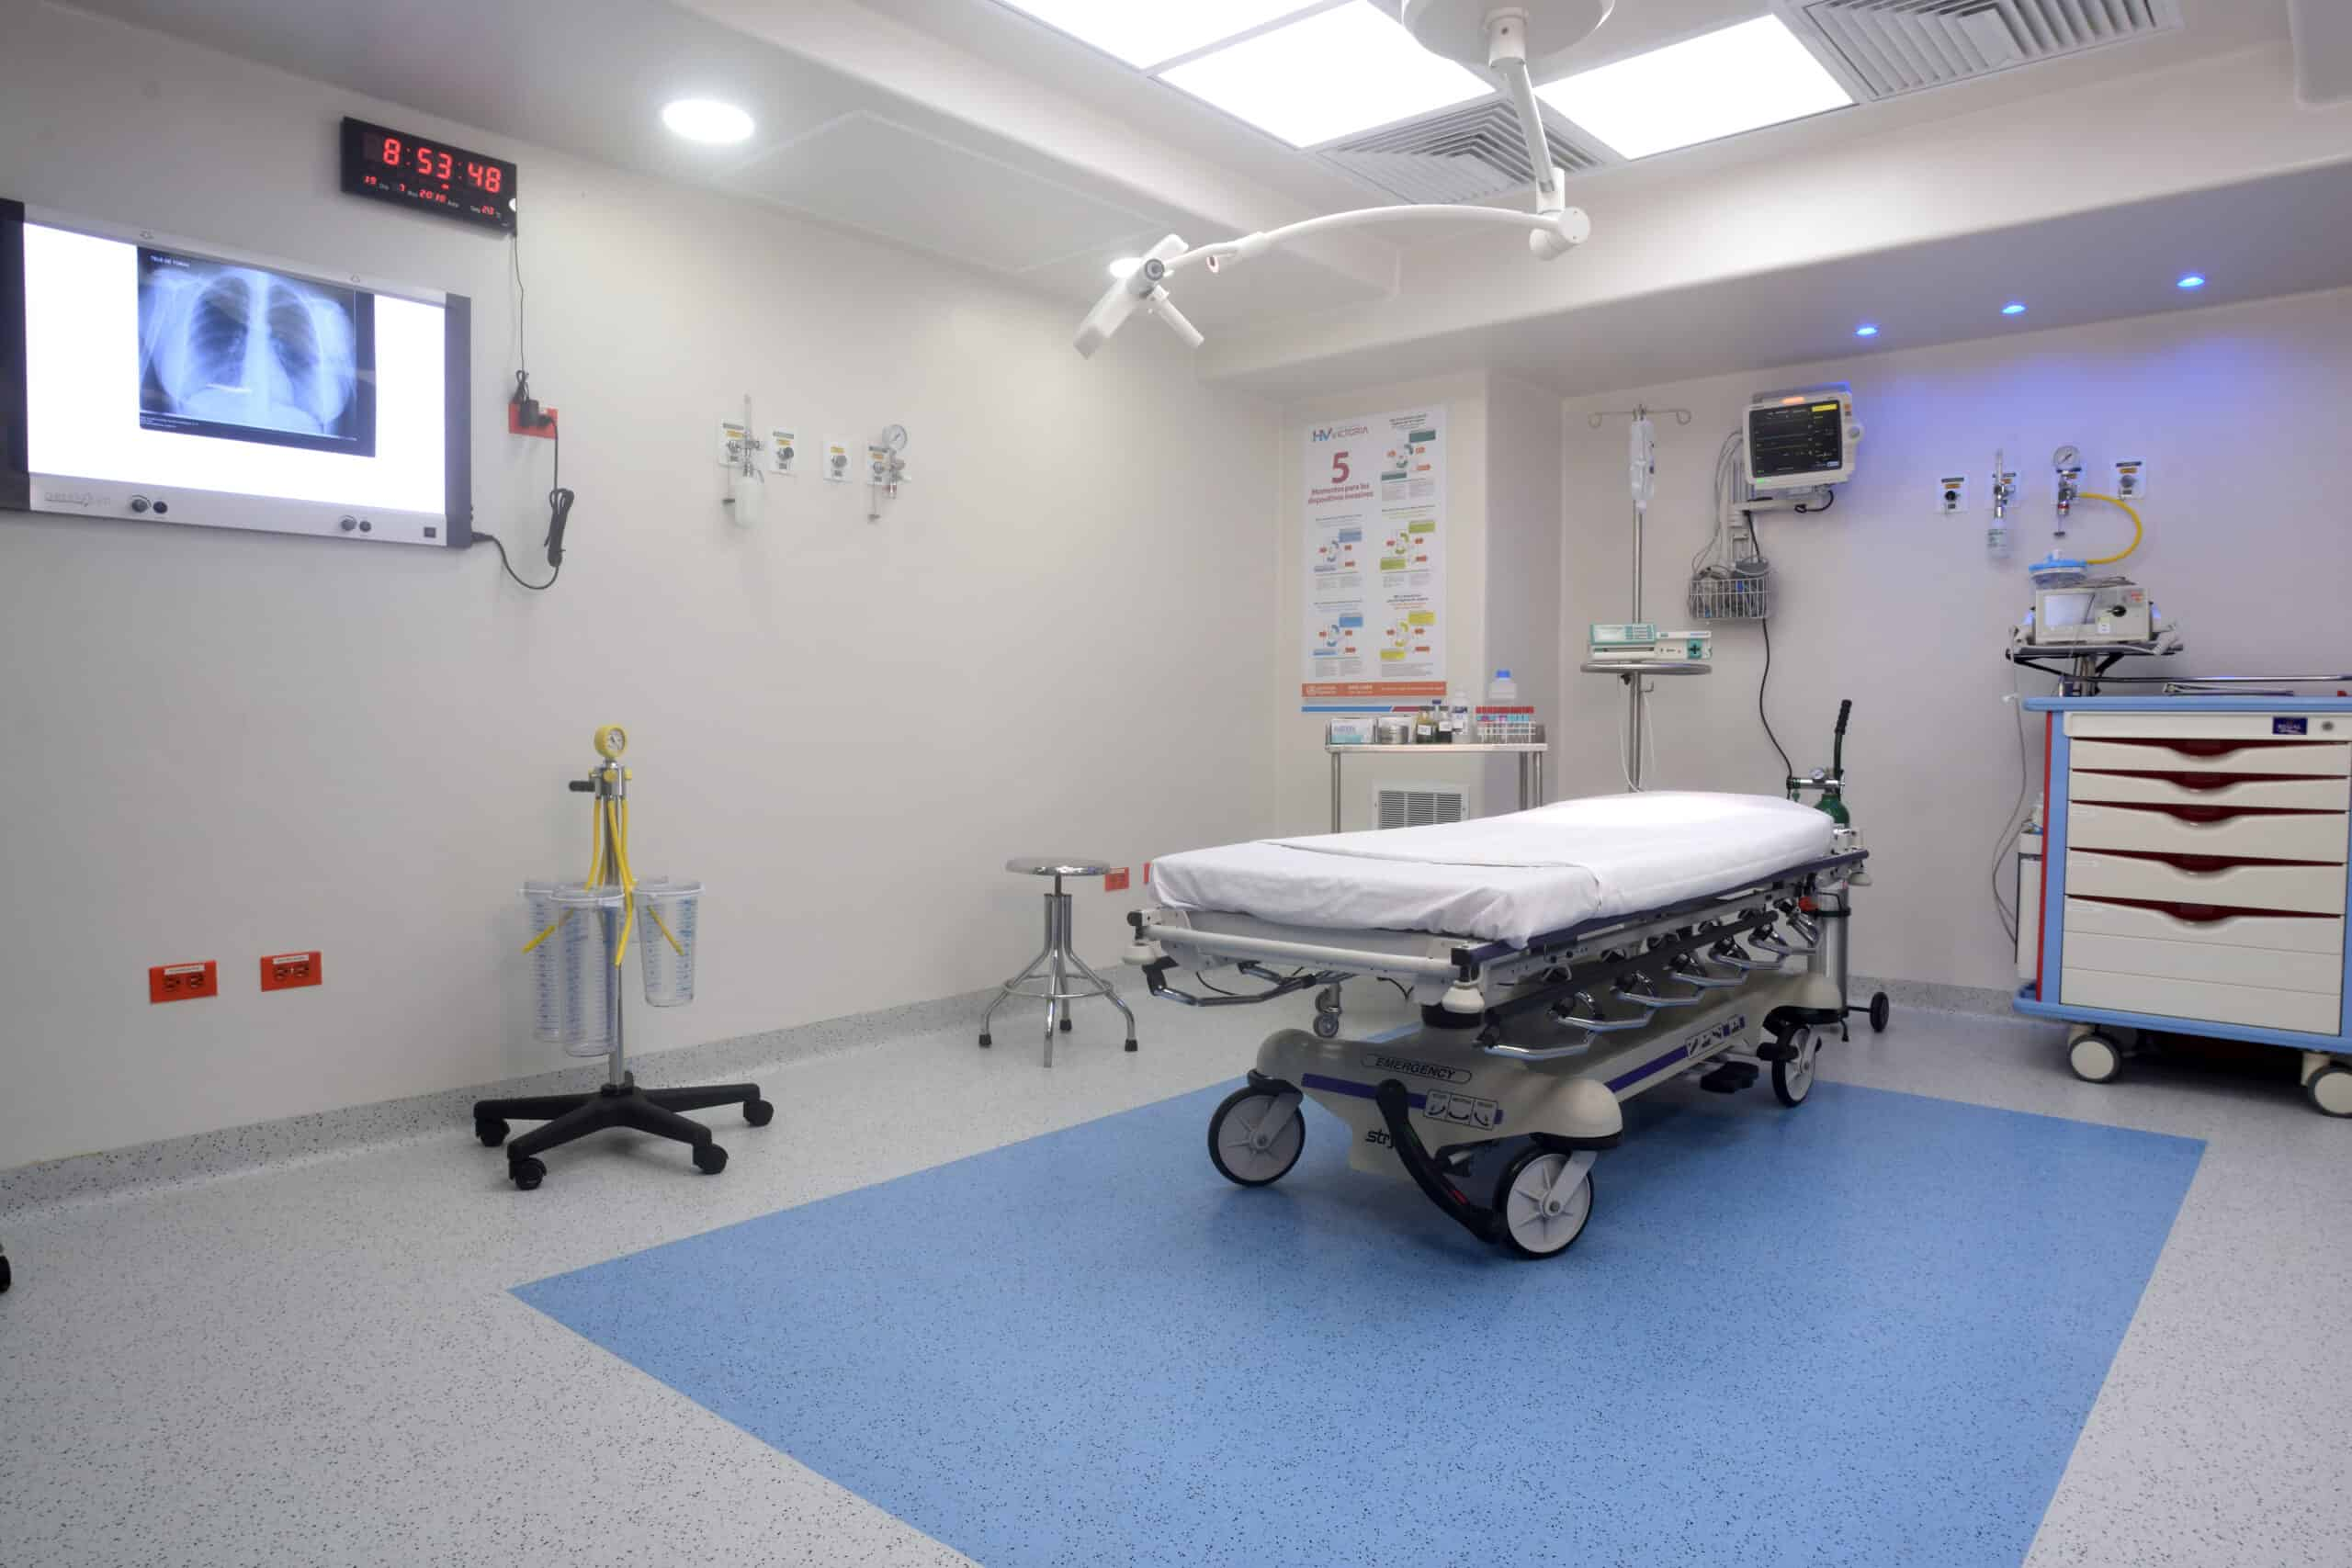bedside_monitor: (1741, 380, 1865, 488)
chair: (978, 854, 1137, 1069)
iv_pole: (1580, 401, 1711, 789), (569, 726, 633, 1092)
medical_drawer: (2009, 695, 2352, 1122)
operating_bed: (1122, 789, 1867, 1260)
surgical_light: (1069, 228, 1206, 357)
syringe_pump: (1584, 614, 1718, 688)
tv: (2, 196, 472, 549)
utility_cart: (1312, 744, 1550, 1040)
